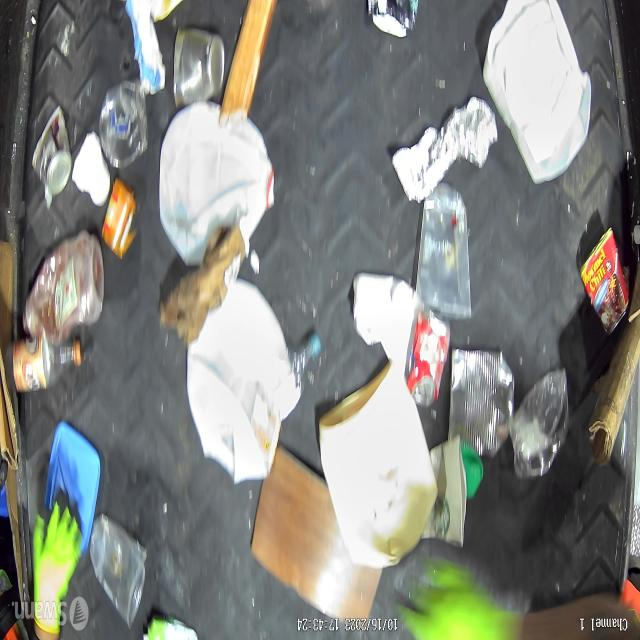can: (445, 342, 515, 461), (579, 227, 631, 336), (400, 307, 449, 412), (172, 24, 225, 109), (31, 104, 71, 198)
milk_jug: (189, 281, 298, 480), (480, 0, 590, 188), (158, 104, 277, 270)
plastic_bottle: (22, 228, 104, 332), (12, 334, 82, 389)
